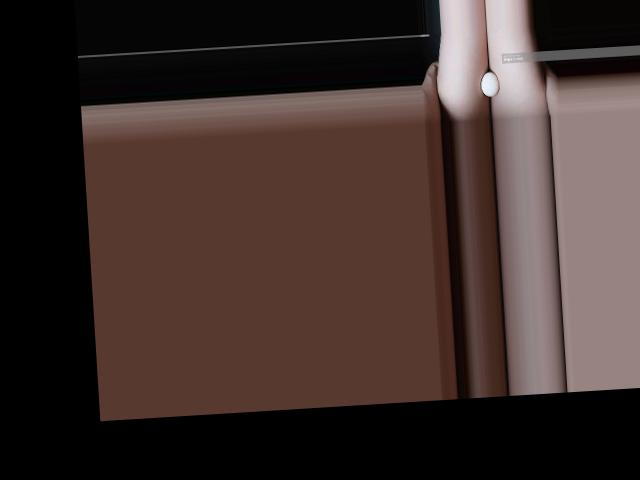egg: (480, 71, 500, 96)
